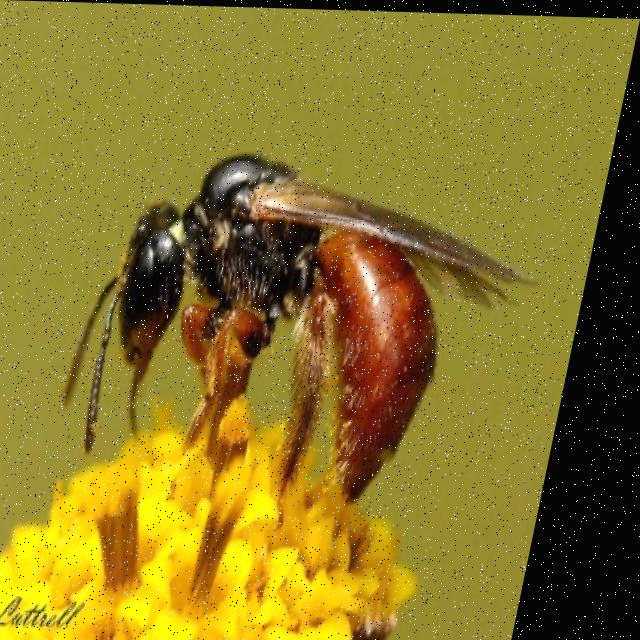Allodapula: (59, 137, 580, 521)
